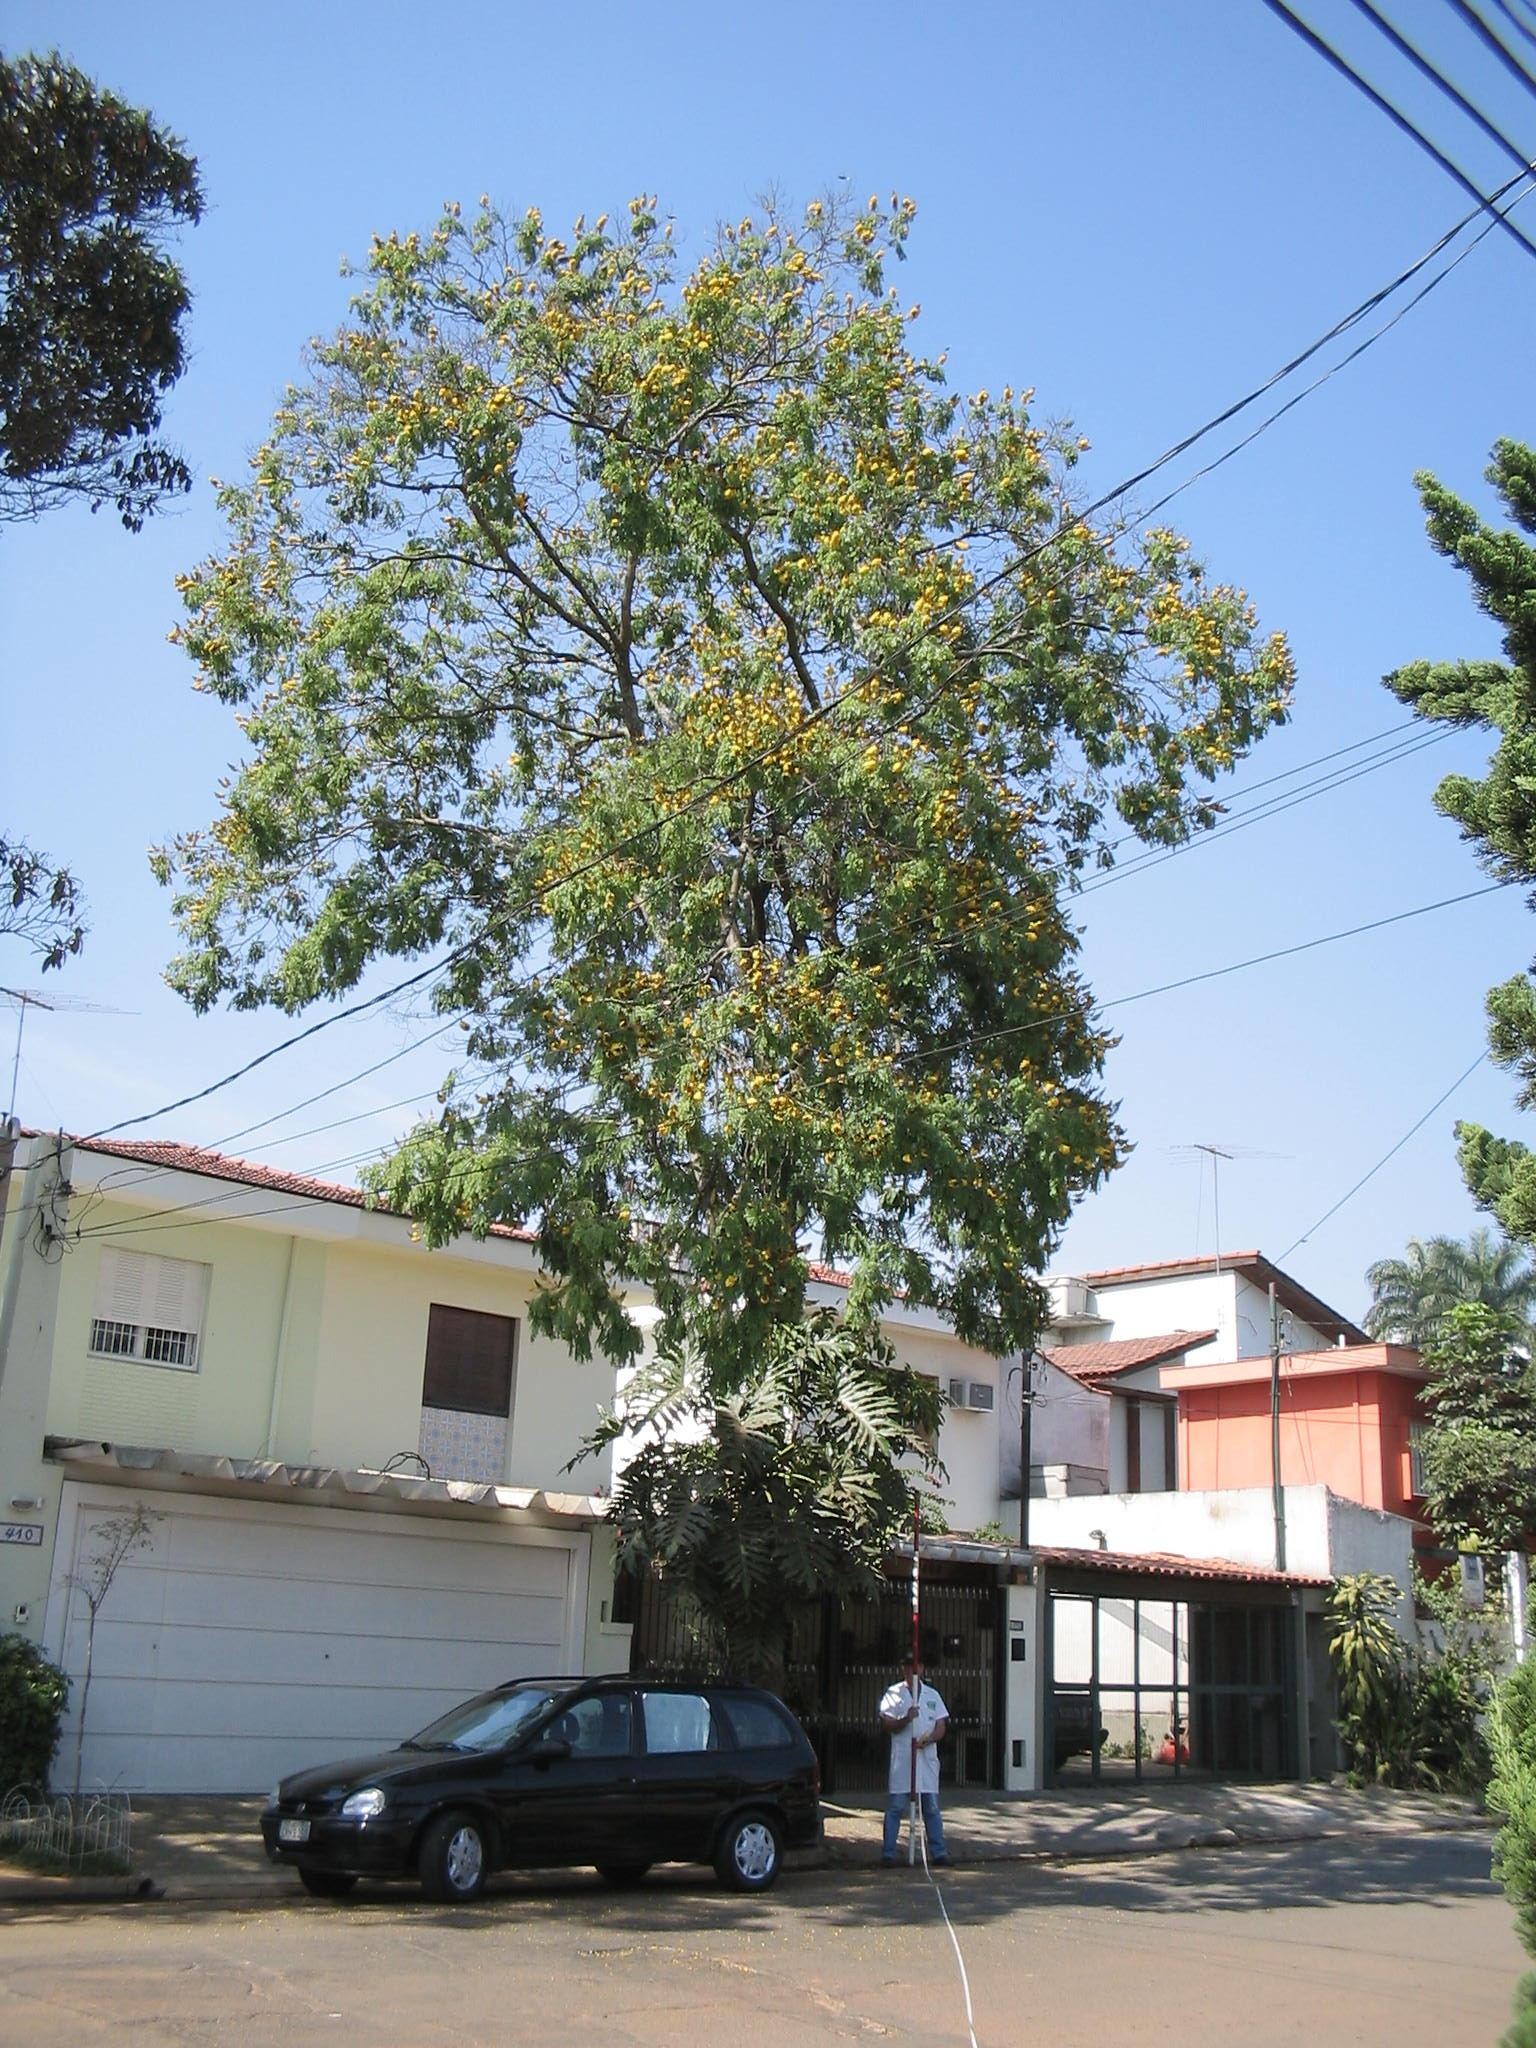crown: (161, 187, 1296, 1432)
stick: (874, 1490, 949, 1869)
tree: (153, 182, 1299, 1875)
